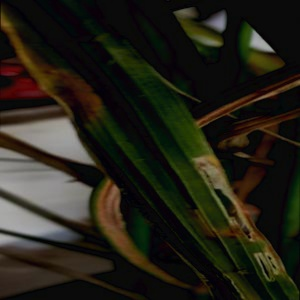Leaf_Blast: (22, 1, 170, 177)
